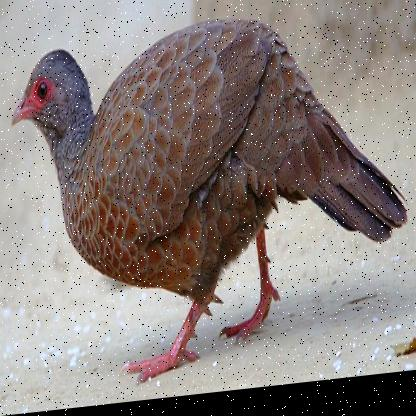Burung: (11, 20, 408, 395)
